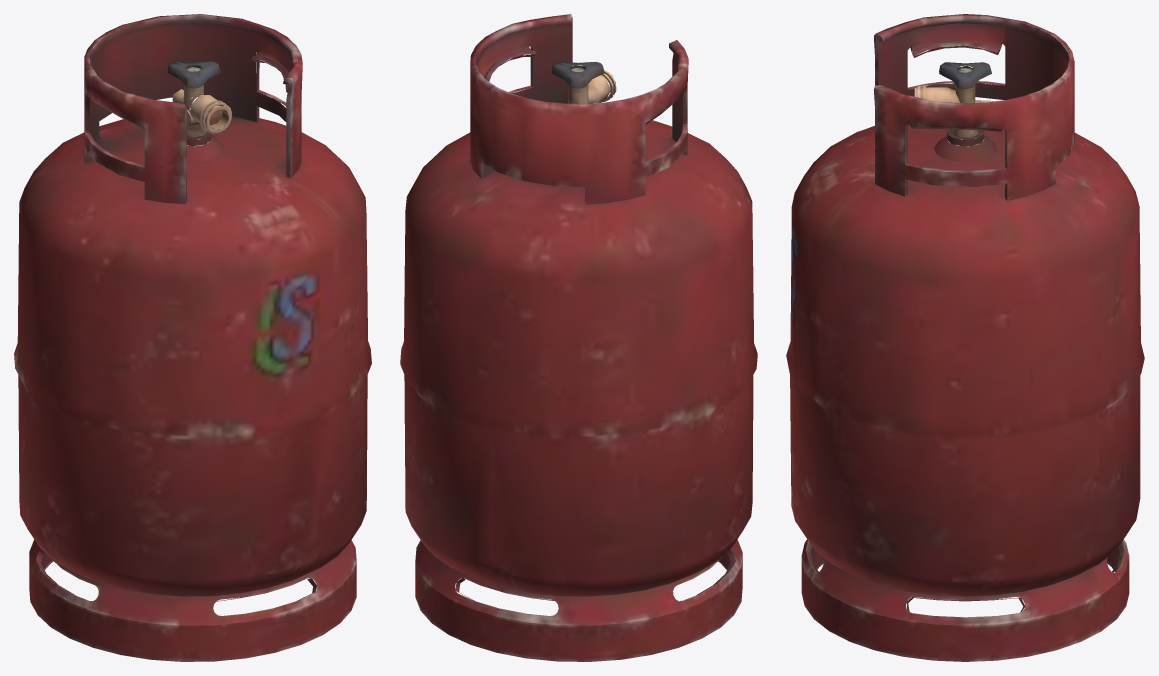
File: propane_tank.glb
3 views of the same model, side by side, from view 1: azimuth 30°, elevation 25°; view 2: azimuth 150°, elevation 25°; view 3: azimuth 270°, elevation 25° (orthographic).
Parts seen in each view (by area): view 1: propane_tank; view 2: propane_tank; view 3: propane_tank.
Part boxes in pixels (x1,y1,x2,y2): propane_tank: (14,14,371,661); propane_tank: (400,14,757,661); propane_tank: (786,14,1144,661).
Size of the model in its own units: 0.3375 by 0.5538 by 0.3375.
Materials: 1 (1 with a texture image).
